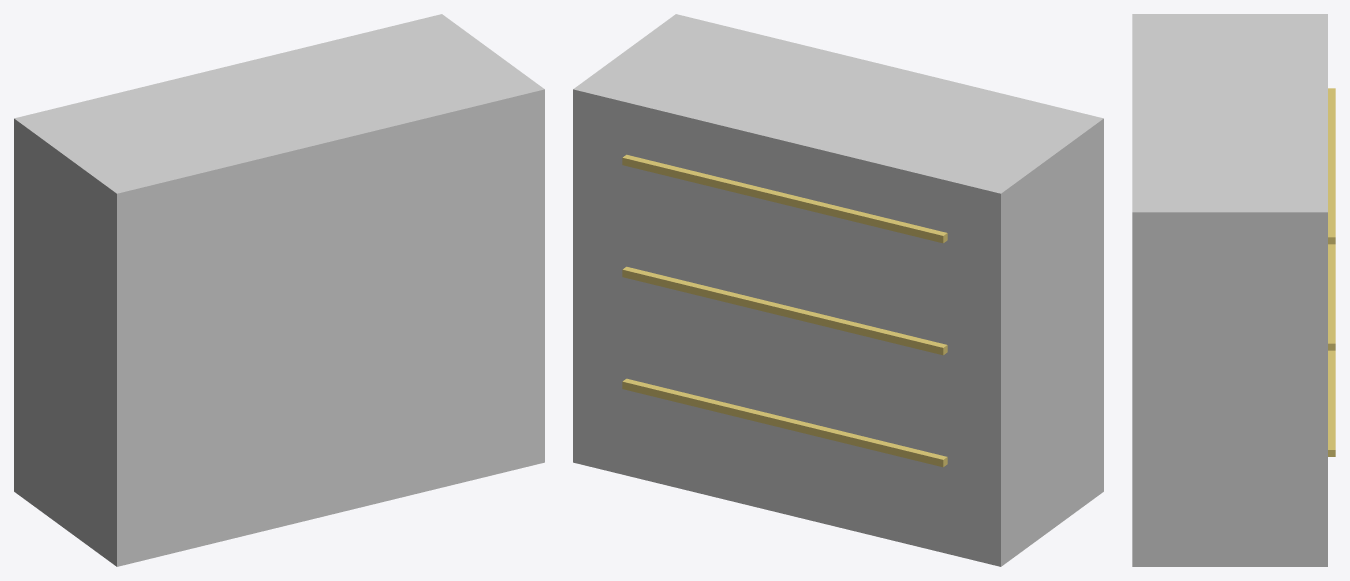
Rendered from dresser.glb.
3 views of the same model, side by side, from view 1: azimuth 30°, elevation 25°; view 2: azimuth 150°, elevation 25°; view 3: azimuth 270°, elevation 25° (orthographic). The views are drawn at different scales.
Visible parts, largest first — view 1: Dresser; view 2: Dresser; view 3: Dresser.
Boxes of the visible parts, x1=… form: Dresser: x1=14, y1=14, x2=544, y2=566; Dresser: x1=573, y1=14, x2=1103, y2=566; Dresser: x1=1132, y1=14, x2=1335, y2=566.
Size of the model in its own units: 1.2 by 1 by 0.52.
